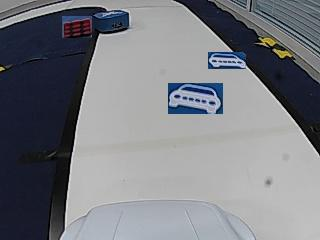prop: (94, 10, 129, 33)
